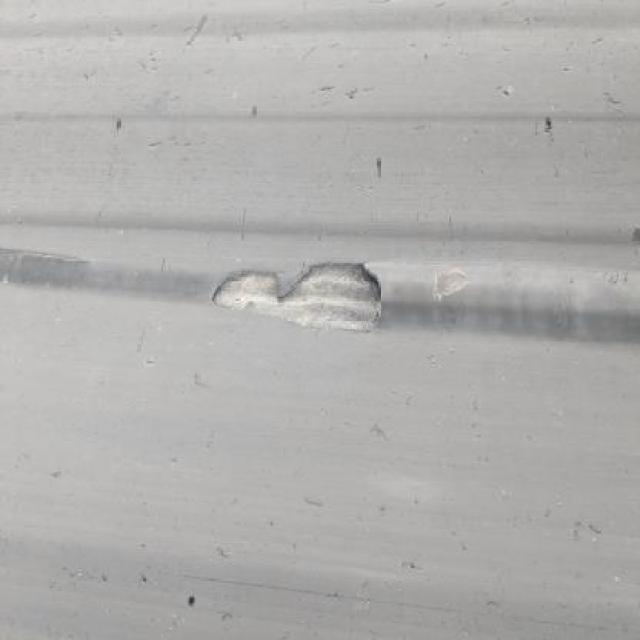Impact Damage: (209, 258, 389, 338)
